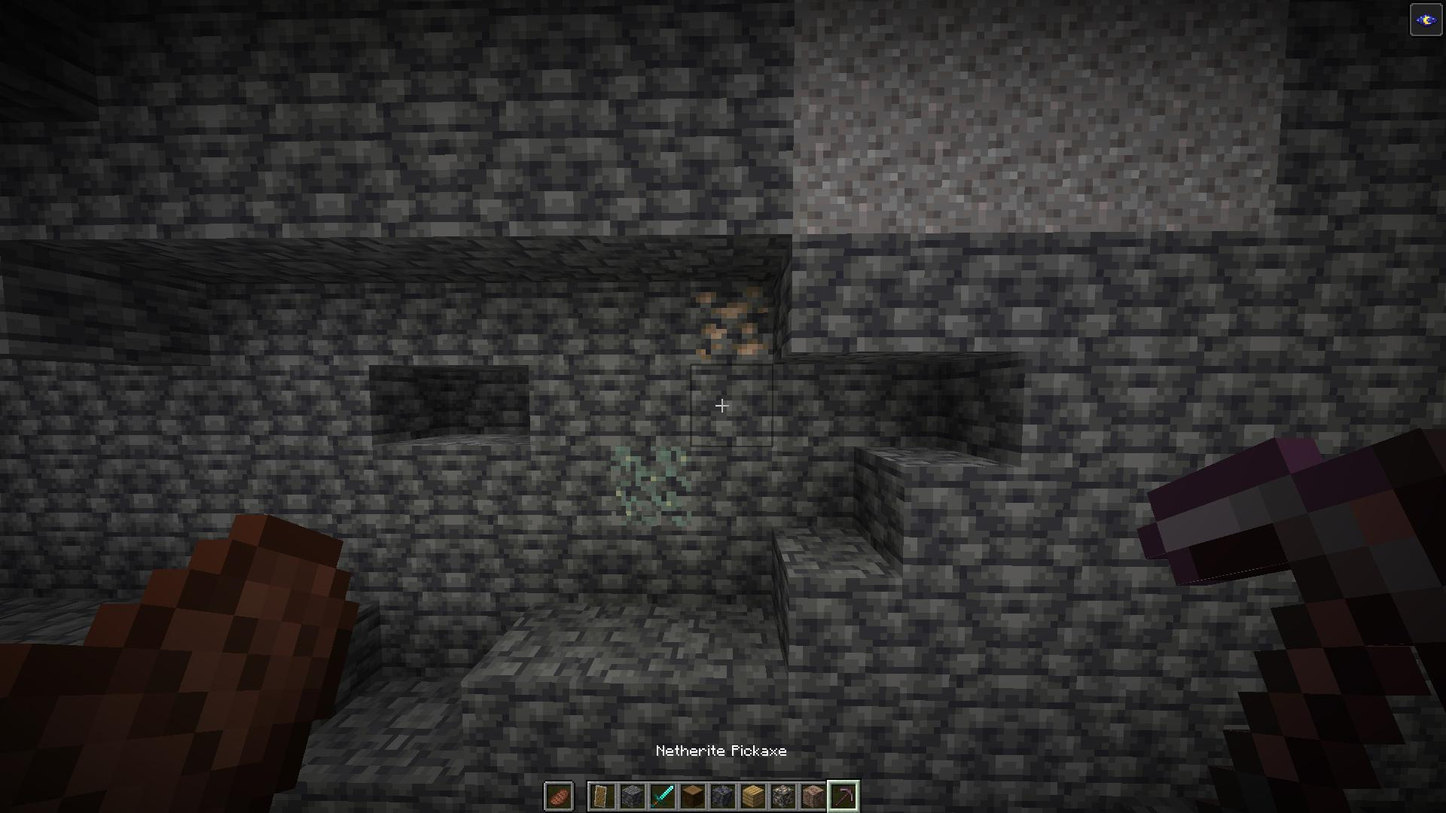iron ore: (691, 282, 776, 369)
